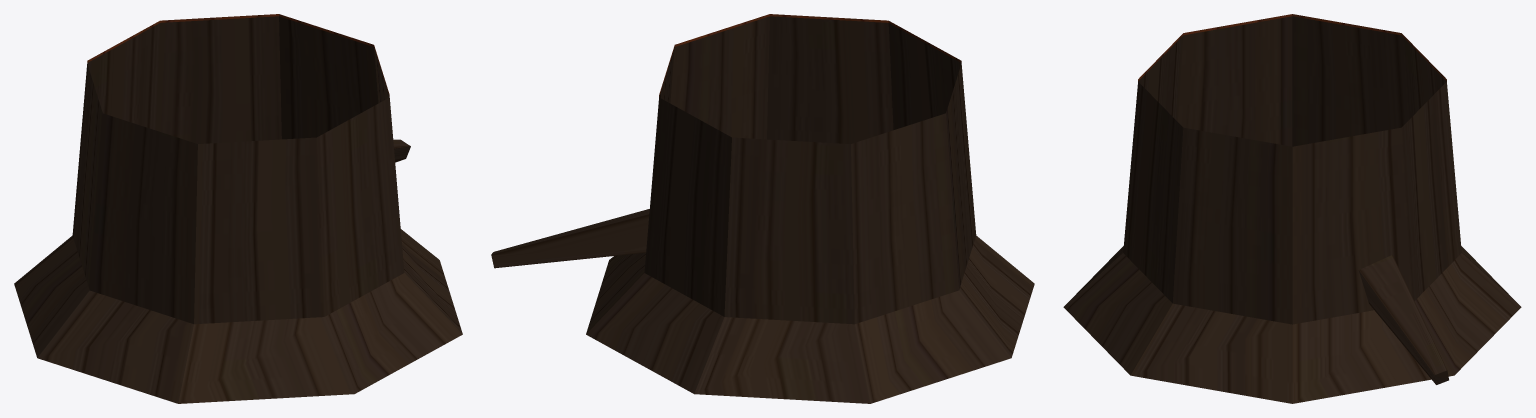
Rendered from stump_01.glb.
3 renders of one model, left to right at view 1: azimuth 30°, elevation 25°; view 2: azimuth 150°, elevation 25°; view 3: azimuth 270°, elevation 25°, orthographic.
Parts seen in each view (by area): view 1: stump_01; view 2: stump_01; view 3: stump_01.
Part boxes in pixels (x1,y1,x2,y2): stump_01: (14, 14, 462, 403); stump_01: (491, 14, 1034, 403); stump_01: (1063, 14, 1521, 403).
Bounding box in the file's own units: 1.02 × 0.505 × 0.92.
Materials: 2 (2 with a texture image).
